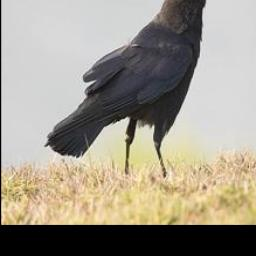Crow: (46, 0, 221, 178)
